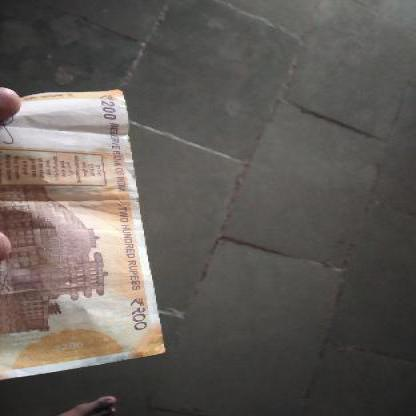New200Back: (1, 90, 162, 360)
